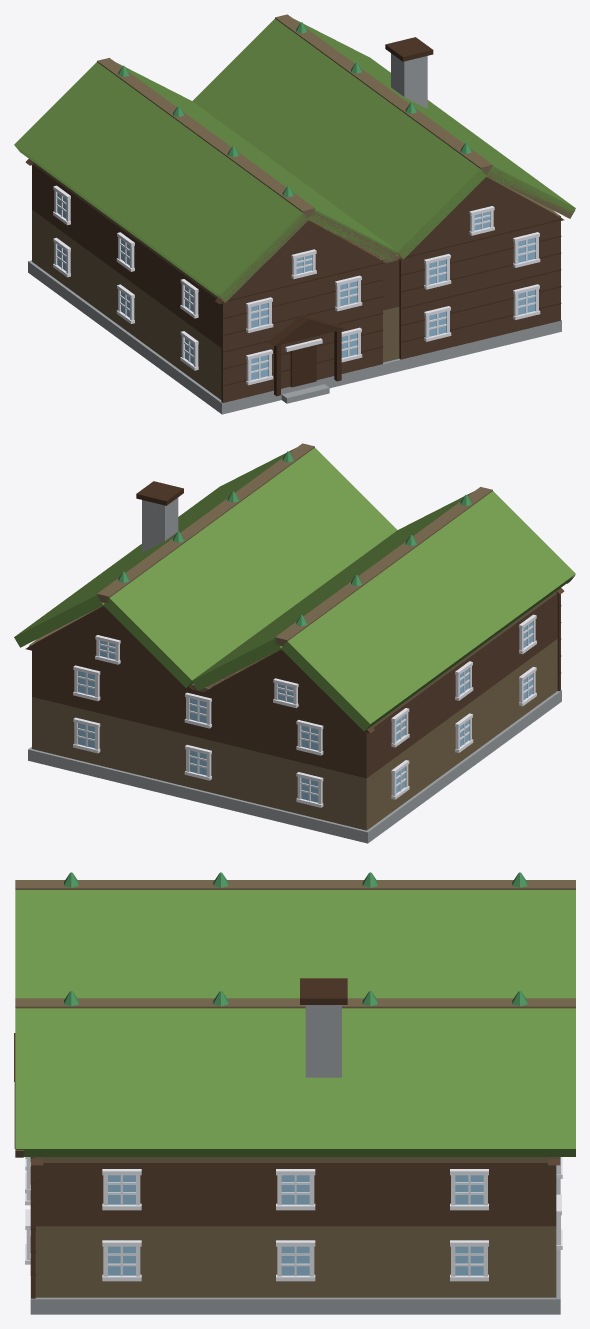
Rendered from house-2x2-2f-turf-a.glb.
3 views of the same model, one above another, from view 1: azimuth 30°, elevation 25°; view 2: azimuth 150°, elevation 25°; view 3: azimuth 270°, elevation 25° (orthographic). The views are drawn at different scales.
Parts seen in each view (by area): view 1: house-2x2-2f-turf-a; view 2: house-2x2-2f-turf-a; view 3: house-2x2-2f-turf-a.
Boxes of the visible parts, x1,y1,x2,y2 form: house-2x2-2f-turf-a: (14,14,575,414); house-2x2-2f-turf-a: (14,443,575,843); house-2x2-2f-turf-a: (14,872,575,1314).
Size of the model in its own units: 2 by 1.16 by 2.
1 material, 1 textured.
